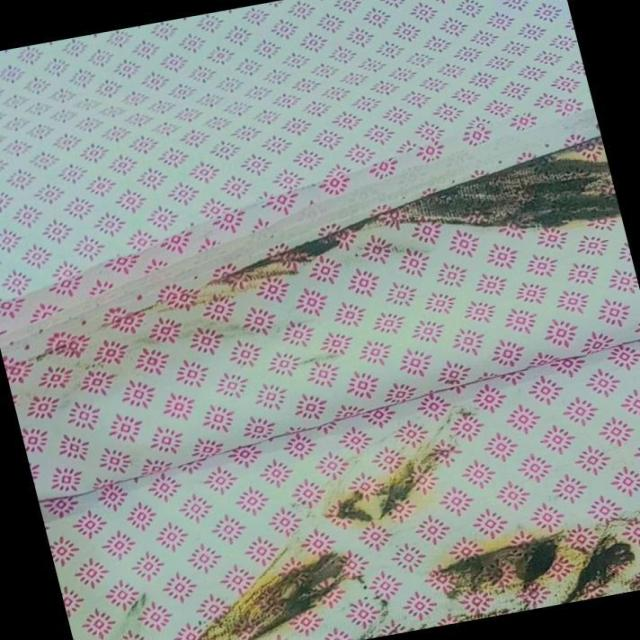stain: (145, 131, 623, 306), (411, 503, 640, 628), (145, 536, 380, 640), (313, 433, 474, 536)
